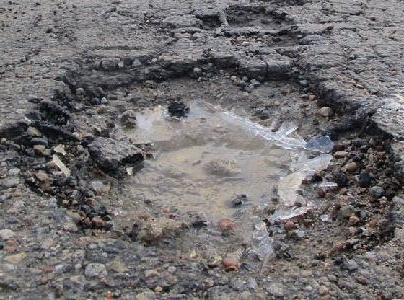pothole: (2, 51, 404, 274), (195, 0, 315, 56)
